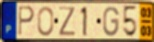1: (79, 6, 88, 38)
5: (122, 5, 138, 39)
G: (102, 5, 120, 38)
O: (37, 5, 55, 37)
P: (17, 6, 36, 38)
Z: (58, 6, 77, 38)
